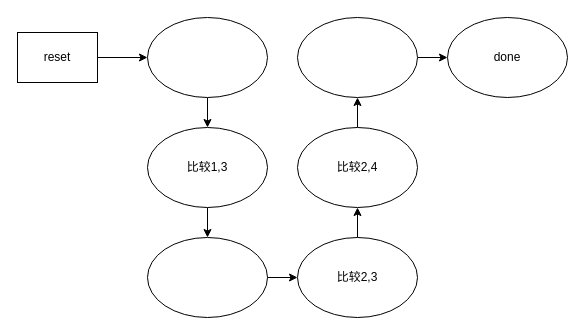
Some shapes in this 585 by 335 pixel diagram are drawn without their labels. The shapes that lost their labels are listed below. From the top down, each one's centre as x and y in pixels, then its label:
At [207,57]: "初值，比较1,2".
At [357,57]: "比较3,4".
At [207,277]: "比较1,4".
